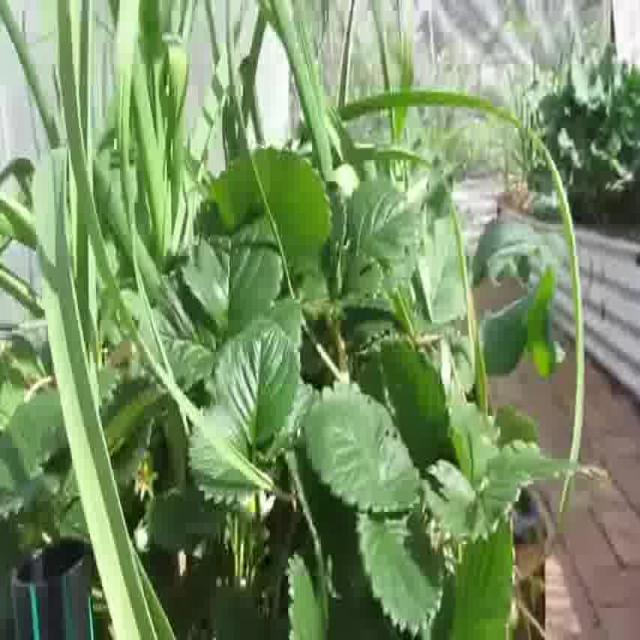Fruta sana: (141, 456, 152, 484)
